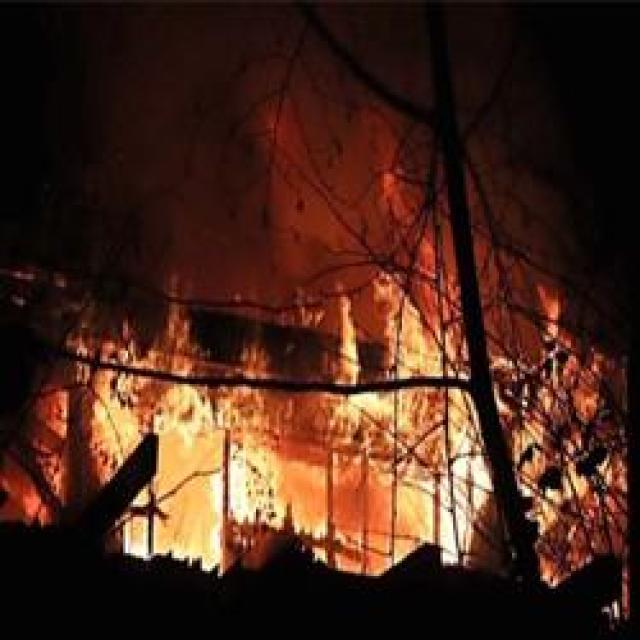Fire: (59, 263, 640, 582)
Smoke: (73, 37, 525, 263)
